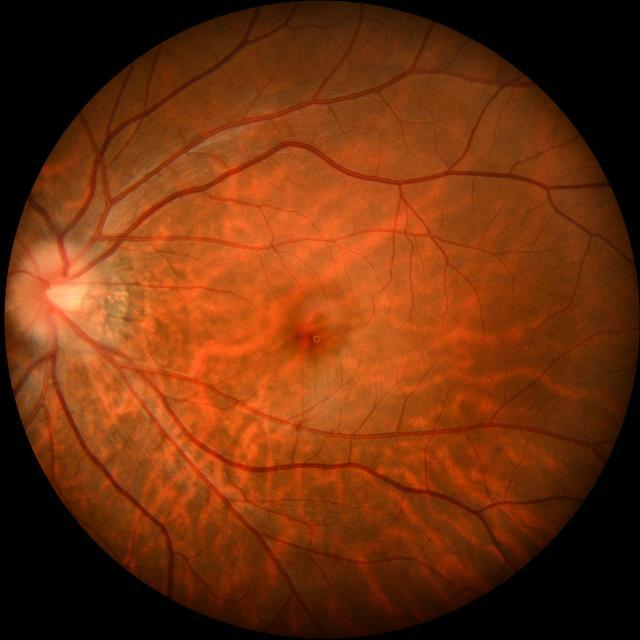OC: (47, 277, 82, 314)
OD: (13, 249, 89, 331)
